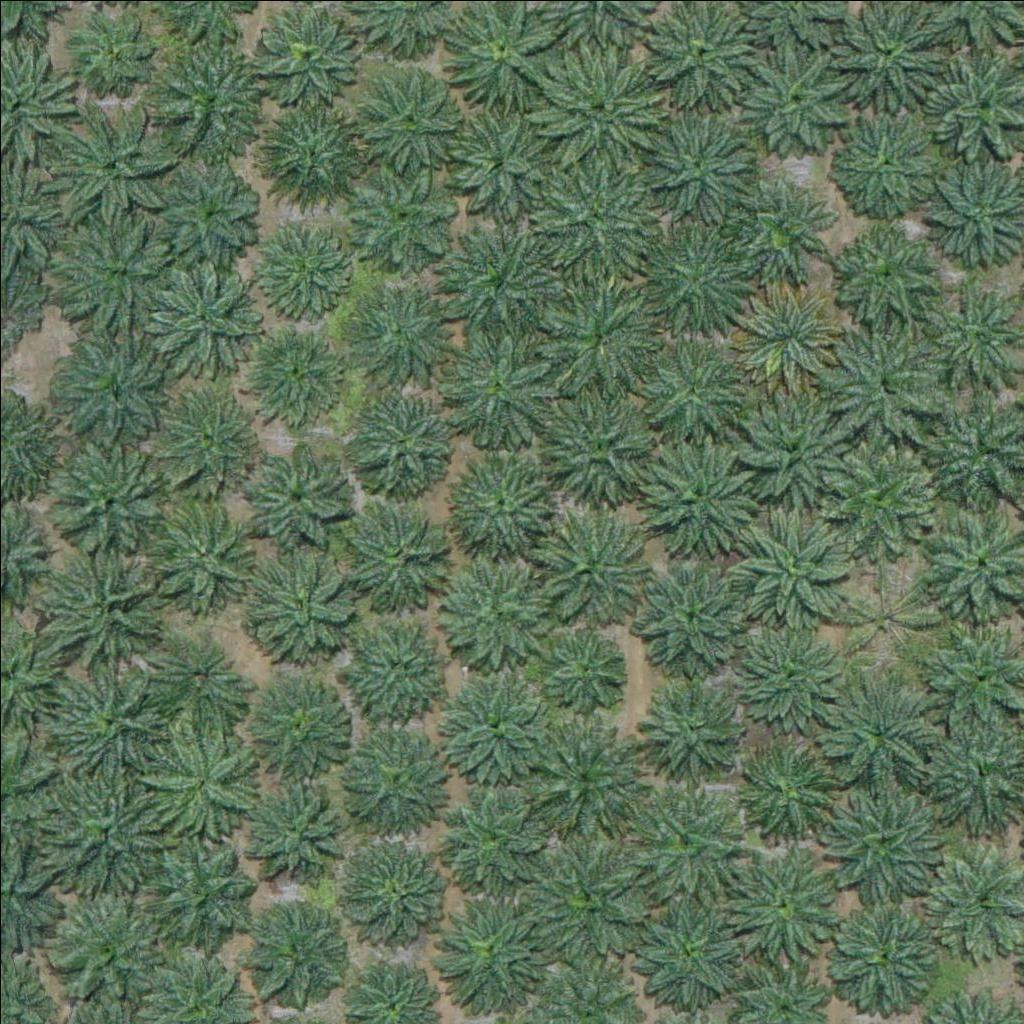Kelapa_Sawit: (43, 765, 168, 891), (435, 768, 560, 894), (521, 711, 646, 837), (59, 205, 184, 331), (49, 109, 174, 235), (537, 270, 662, 396), (531, 151, 656, 277), (49, 545, 174, 670), (537, 49, 662, 174), (440, 897, 553, 1011), (438, 445, 551, 559), (532, 511, 645, 625), (446, 330, 559, 444), (728, 848, 841, 962), (633, 558, 746, 672), (826, 903, 939, 1016), (53, 892, 166, 1005), (144, 492, 257, 605), (241, 663, 354, 776), (246, 541, 359, 654), (339, 833, 452, 946), (338, 720, 451, 833), (58, 337, 171, 450), (149, 261, 262, 374), (355, 65, 468, 178), (441, 106, 554, 219), (439, 225, 552, 338), (546, 387, 659, 500), (645, 442, 758, 555), (824, 441, 937, 554), (630, 789, 743, 902), (730, 276, 843, 389), (733, 43, 846, 156), (828, 323, 941, 436), (832, 218, 945, 331), (161, 50, 273, 164), (256, 99, 368, 213), (350, 163, 462, 277), (825, 787, 937, 901), (730, 610, 842, 724), (629, 898, 741, 1011), (52, 667, 164, 780), (49, 441, 161, 554), (142, 833, 254, 946), (341, 602, 453, 715), (344, 494, 456, 607), (440, 666, 552, 779), (441, 555, 553, 668), (532, 844, 644, 957), (634, 332, 746, 445), (644, 223, 756, 336), (644, 112, 756, 225), (823, 676, 935, 789), (738, 392, 850, 505), (737, 514, 849, 627), (834, 566, 934, 667), (151, 728, 251, 829), (145, 634, 245, 735), (157, 387, 257, 488), (251, 898, 351, 999), (240, 781, 340, 882), (249, 447, 349, 548), (835, 110, 935, 211), (256, 6, 356, 106), (354, 394, 454, 494), (154, 166, 254, 266), (249, 322, 349, 422), (253, 215, 353, 315), (348, 283, 448, 383), (739, 740, 839, 840), (640, 682, 740, 782), (738, 185, 825, 274), (77, 21, 152, 97), (551, 630, 626, 706)
